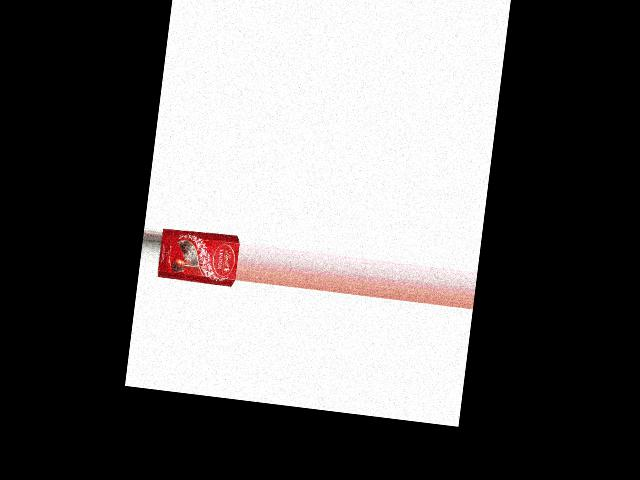chocolate: (155, 225, 240, 290)
